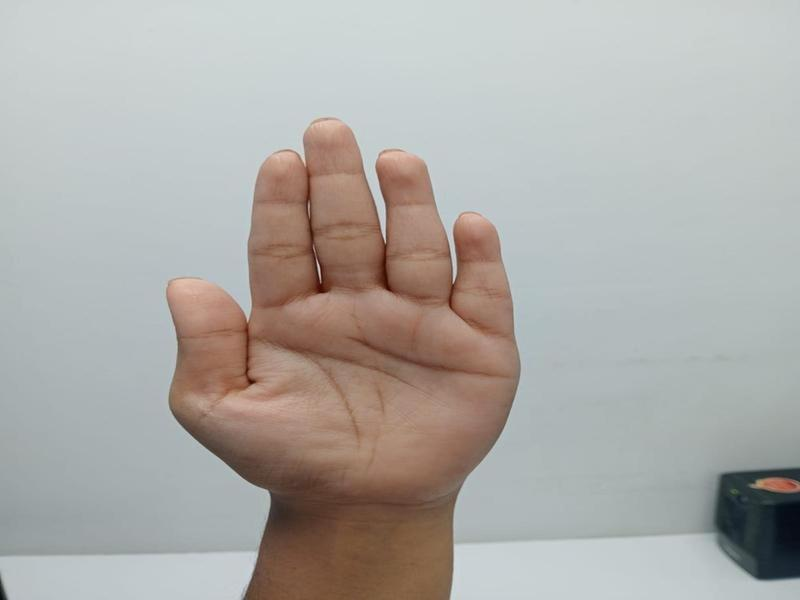REVERSE: (160, 105, 527, 600)
